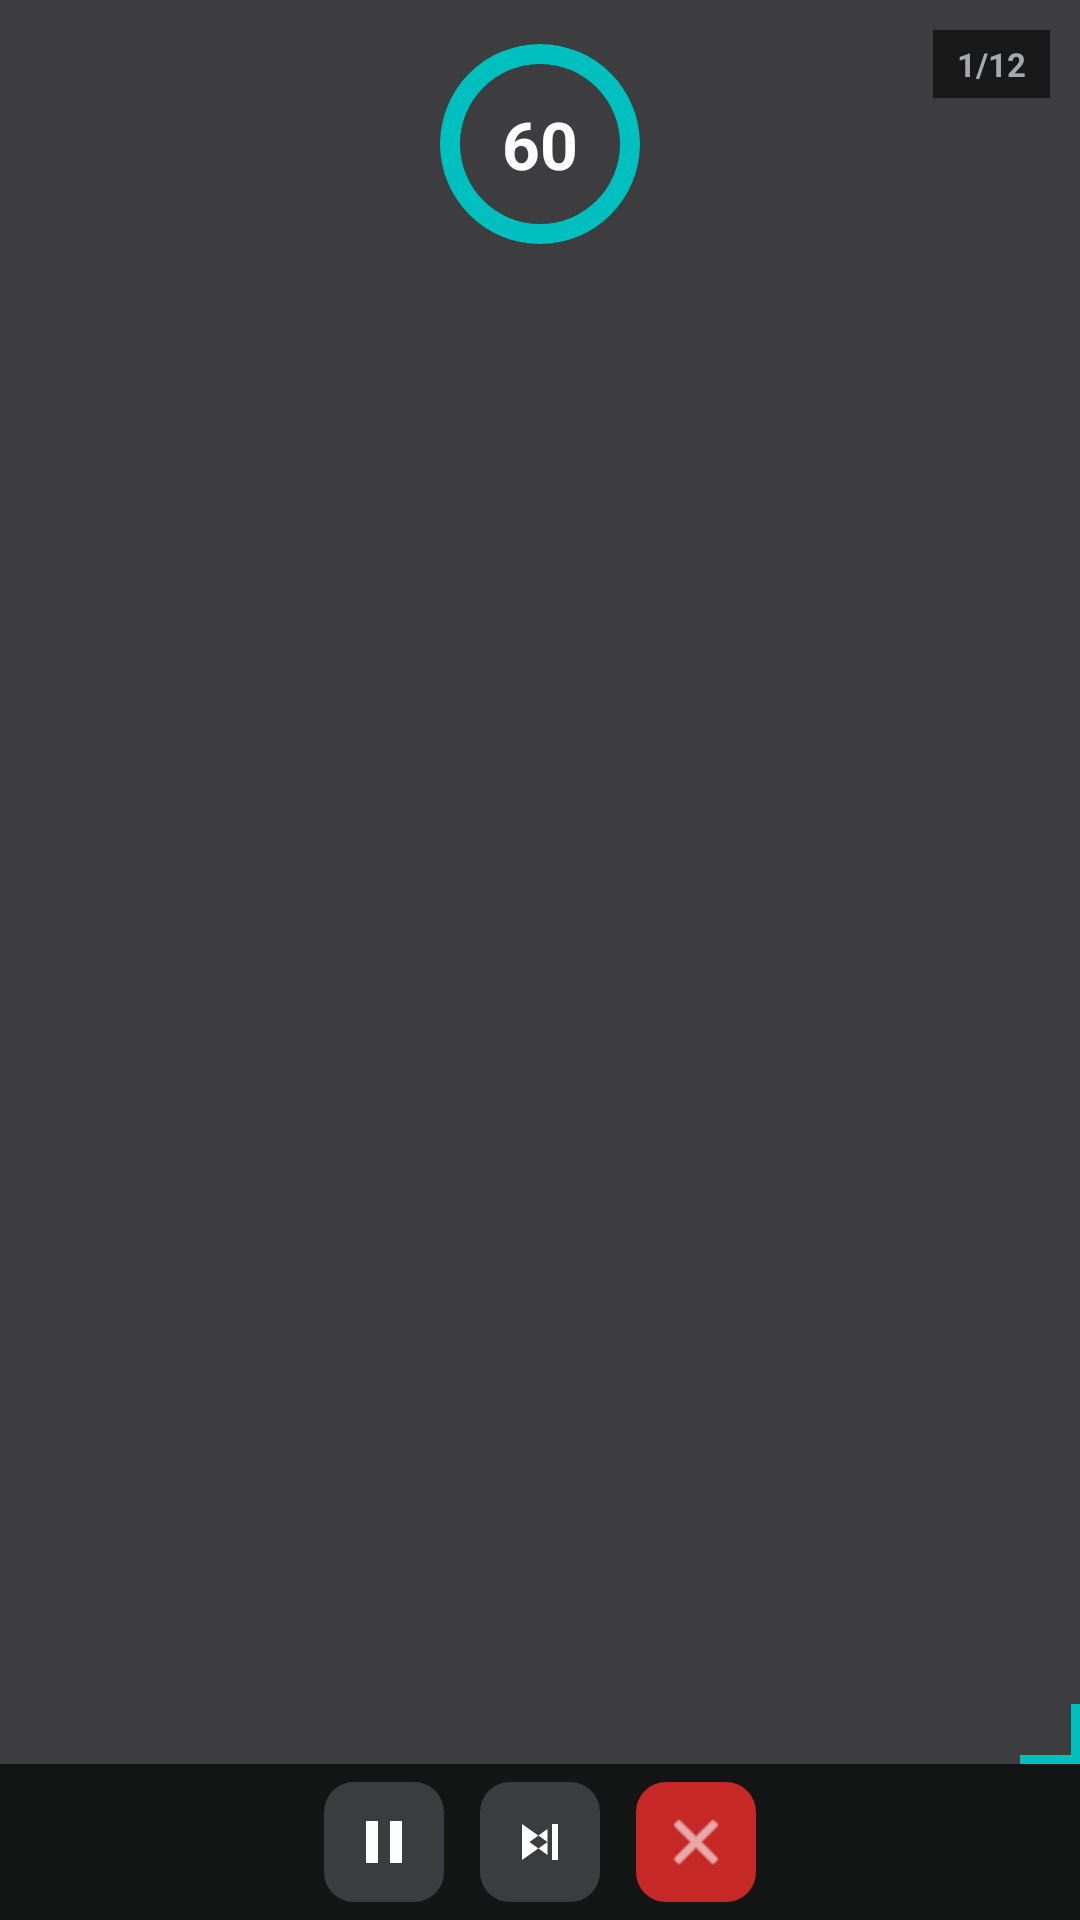

Screen size 1080*1920. Icon name, then its box in pixels as detection(x1, y1, x2, y2):
close clear cancel: detection(636, 1782, 756, 1902)
pause: detection(324, 1782, 444, 1902)
skip: detection(480, 1782, 600, 1902)
